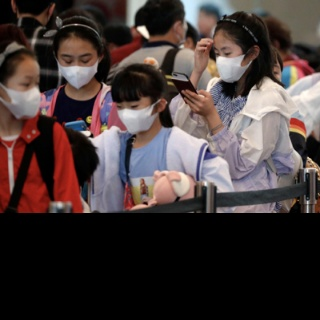with_mask: (113, 93, 157, 133), (56, 48, 97, 88), (8, 71, 42, 119), (212, 42, 248, 83)
